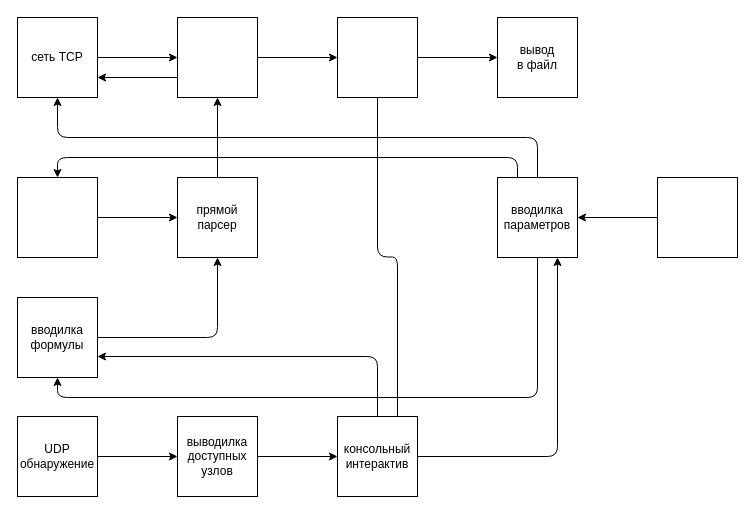
The diagram is 755 pixels wide and 514 high, and some of its shapes have lost their labels. Each missing label, with the centre of its shape:
"вводилка файла" goes at (x=57, y=217).
"обратный парсер" goes at (x=377, y=57).
"парсер консольных аргументов" goes at (x=697, y=217).
"сериализатор" goes at (x=217, y=57).
